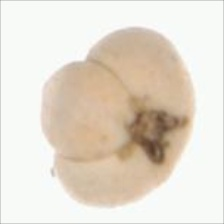L5: (38, 58, 140, 164), (121, 97, 191, 165)
L6: (37, 23, 199, 211)
